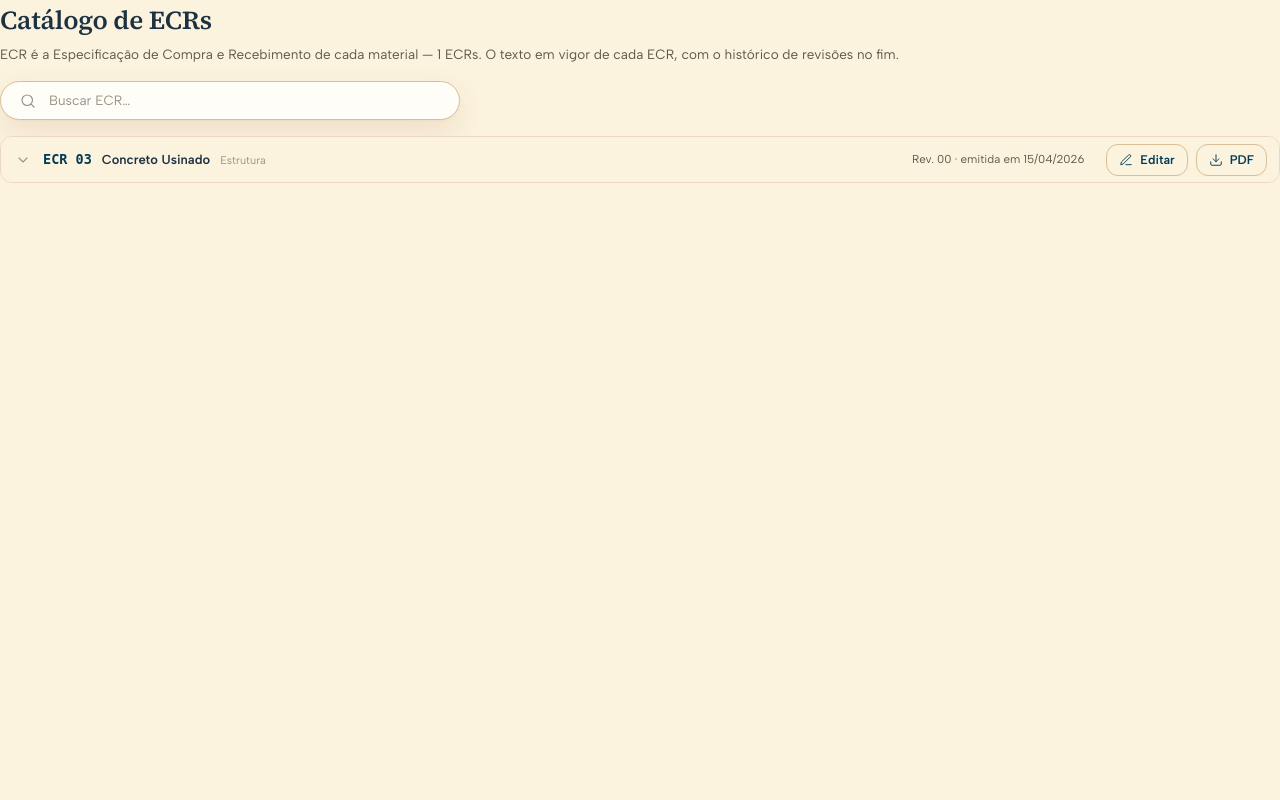
D589 §4.2 — a ECR em edição › a seção de uma linha só não deixa tirar a última
Click the button with aria-label "Editar a ECR 03": {"x": 1147, "y": 160} [1106,144,1188,176]
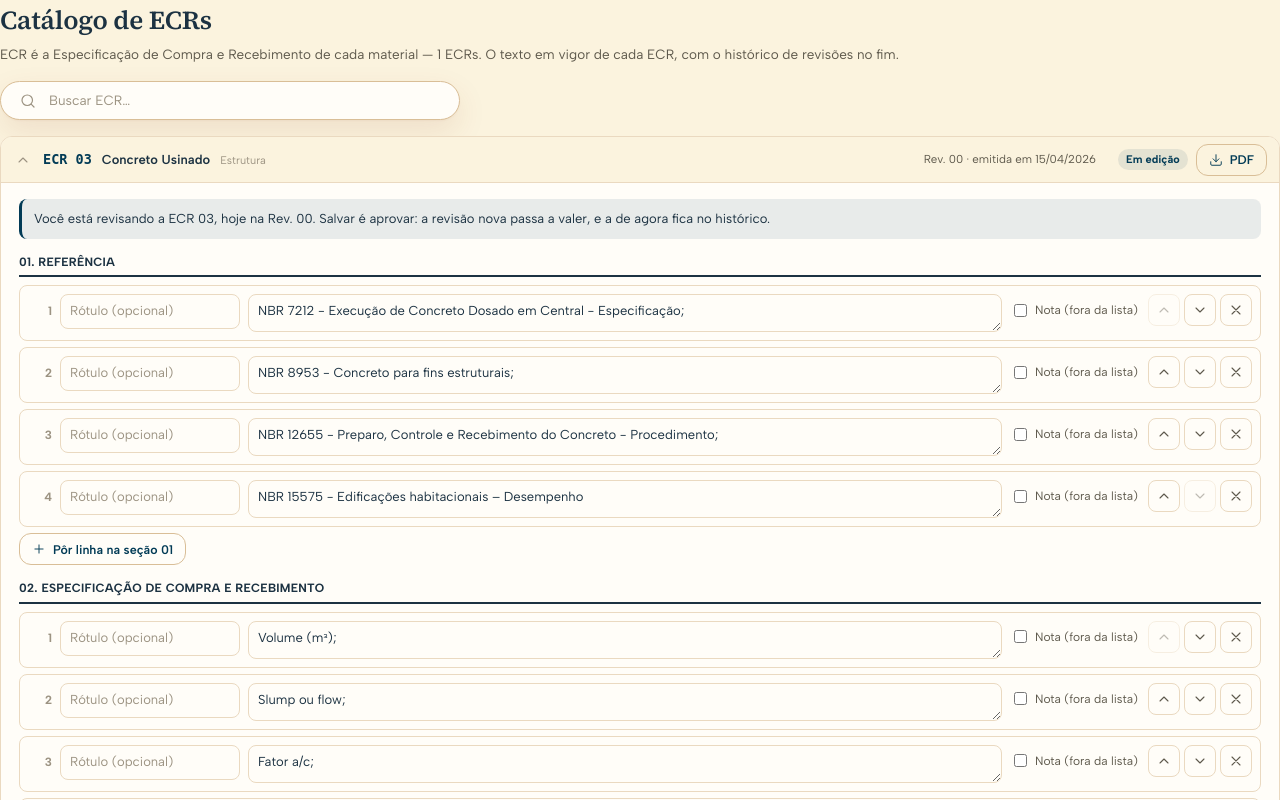
Check: the button named "Subir a linha 1 da seção 01" is disabled, box [1148,294,1180,326]
Check: the button named "Descer a linha 4 da seção 01" is disabled, box [1184,480,1216,512]
